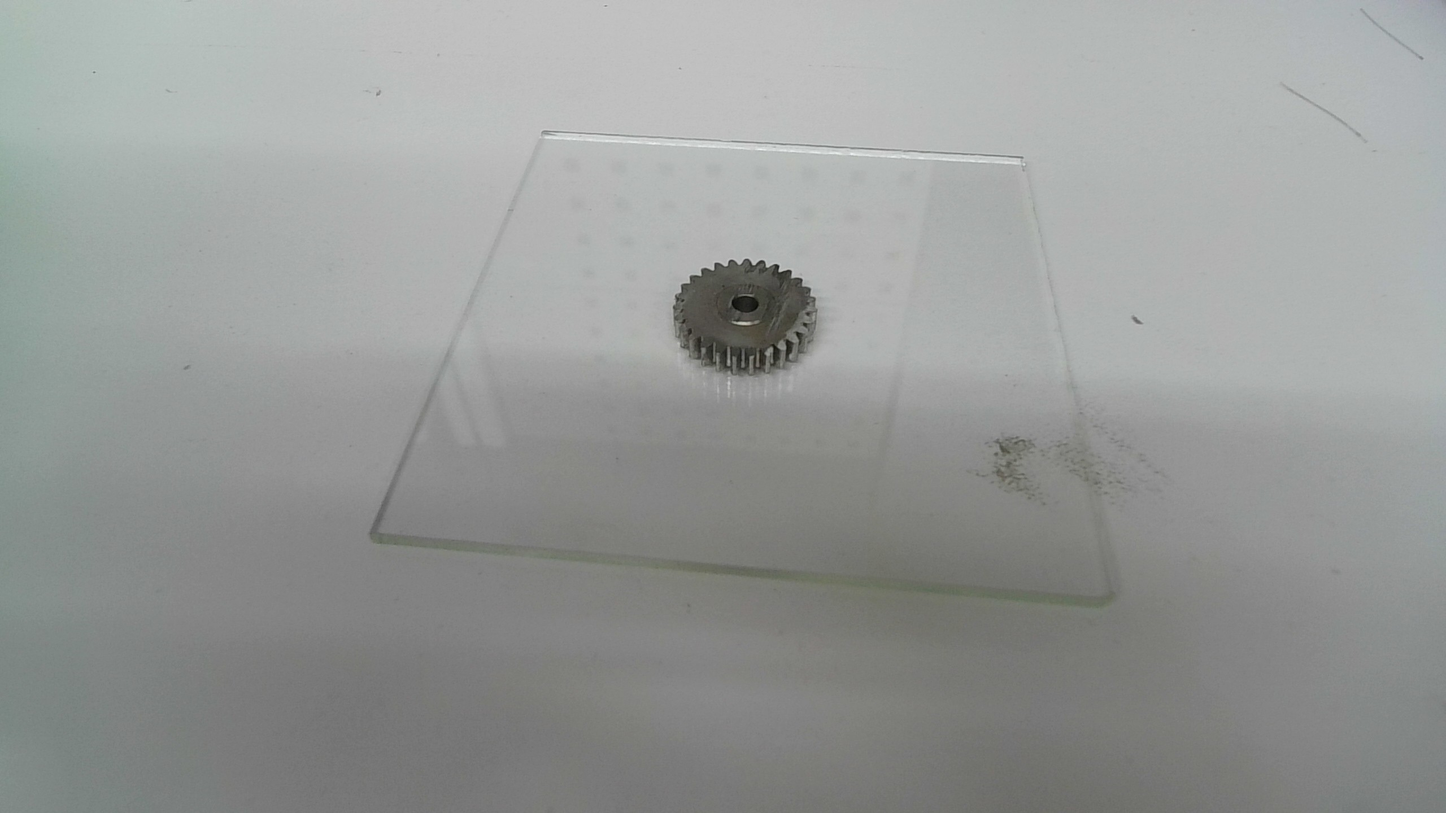gear: (671, 255, 819, 377)
